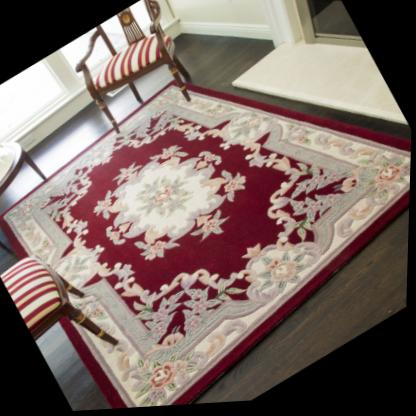Carpet: (0, 81, 412, 410)
